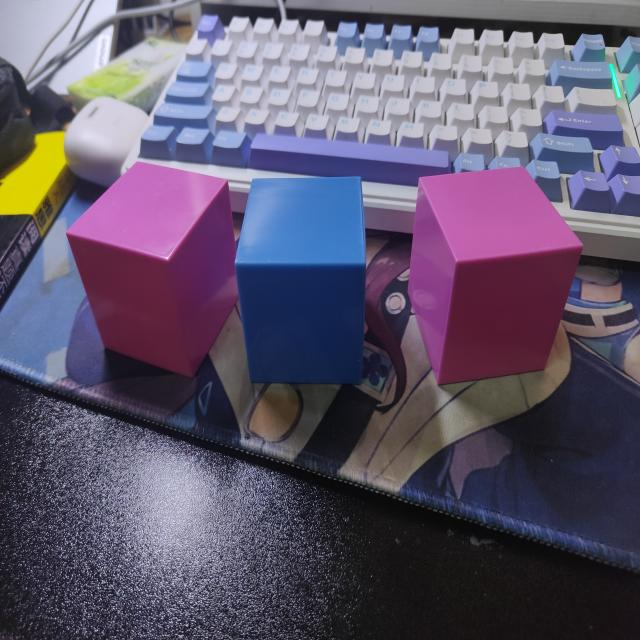blue: (234, 175, 366, 383)
pink: (405, 165, 585, 385), (65, 162, 238, 378)
